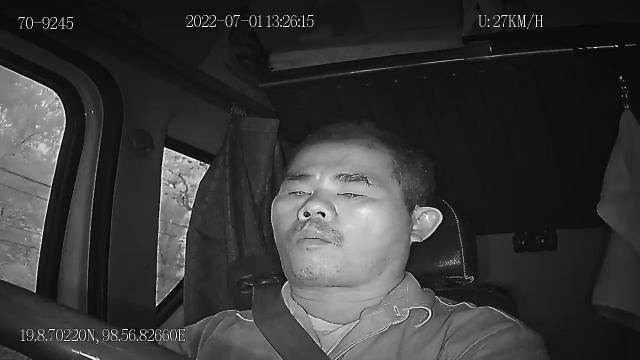SafeDriving: (328, 174, 374, 203), (278, 180, 315, 204)
Seatbelt: (248, 280, 334, 360)
